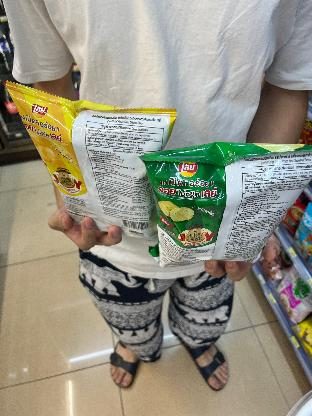Plastic Packaging: (6, 78, 174, 248), (142, 138, 312, 266)
